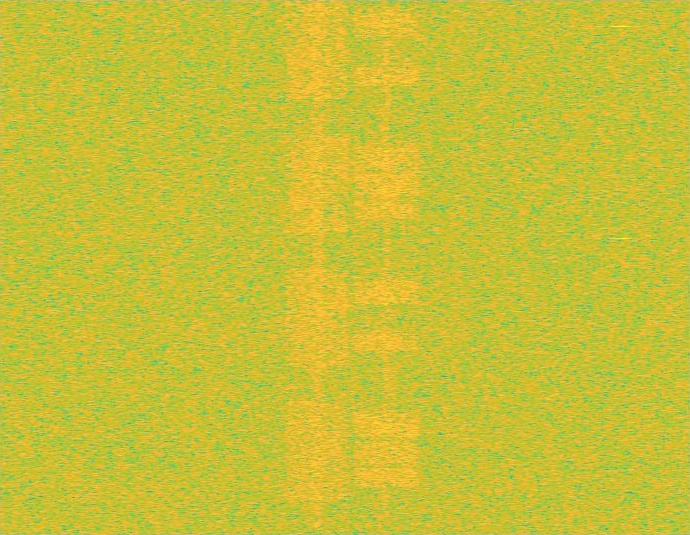5G: (283, 0, 352, 534)
DSSS: (310, 0, 325, 534), (382, 0, 391, 534)
LTE: (352, 0, 421, 534)
Radar: (614, 0, 628, 534)
